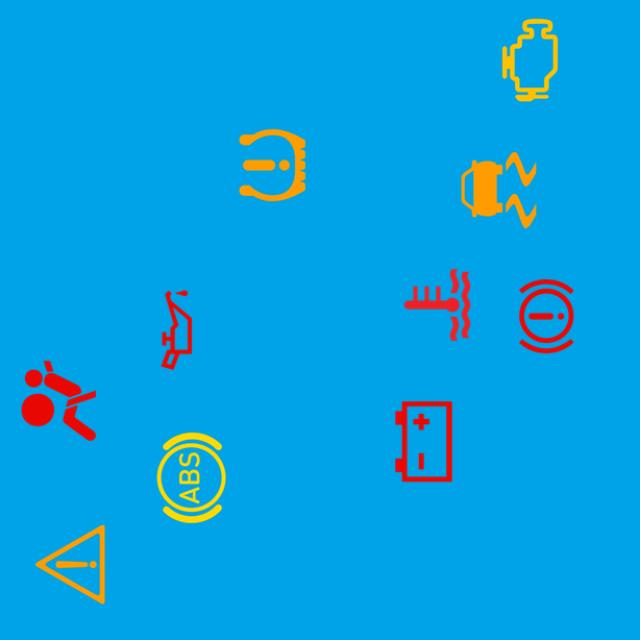Anti Lock Braking System: (142, 428, 241, 528)
Braking System Issue: (497, 267, 596, 366)
Charging System Issue: (374, 392, 473, 491)
Check Engine: (480, 10, 580, 110)
Electronic Stability Problem -ESP-: (449, 140, 548, 240)
Engine Overheating Warning Light: (388, 256, 487, 354)
Low Engine Oil Warning Light: (127, 280, 226, 380)
Low Tire Pressure Warning Light: (223, 116, 322, 214)
Master warning light: (21, 515, 120, 614)
SRS-Airbag: (10, 352, 109, 451)
